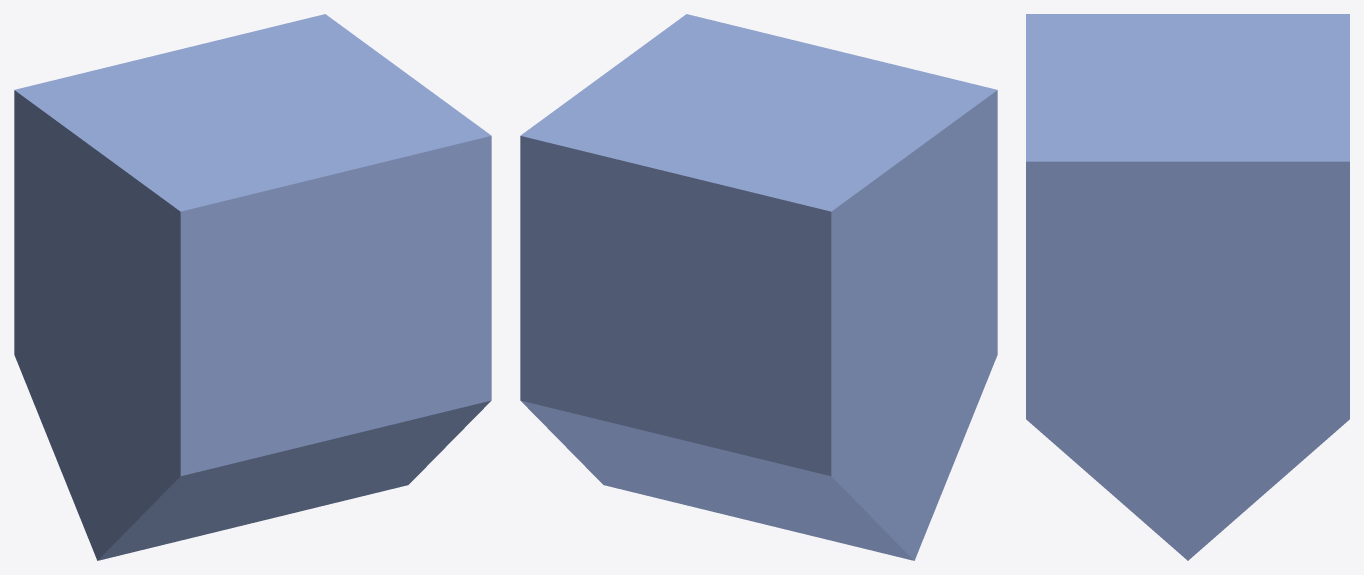
The model's file is Tech.fbx.
3 renders of one model, left to right at view 1: azimuth 30°, elevation 25°; view 2: azimuth 150°, elevation 25°; view 3: azimuth 270°, elevation 25°, orthographic. The views are drawn at different scales.
Visible parts, largest first — view 1: Cube; view 2: Cube; view 3: Cube.
Boxes of the visible parts, x1=… form: Cube: x1=14, y1=14, x2=491, y2=560; Cube: x1=520, y1=14, x2=997, y2=560; Cube: x1=1026, y1=14, x2=1349, y2=560.
Bounding box in the file's own units: 2138 × 2694 × 1980.
